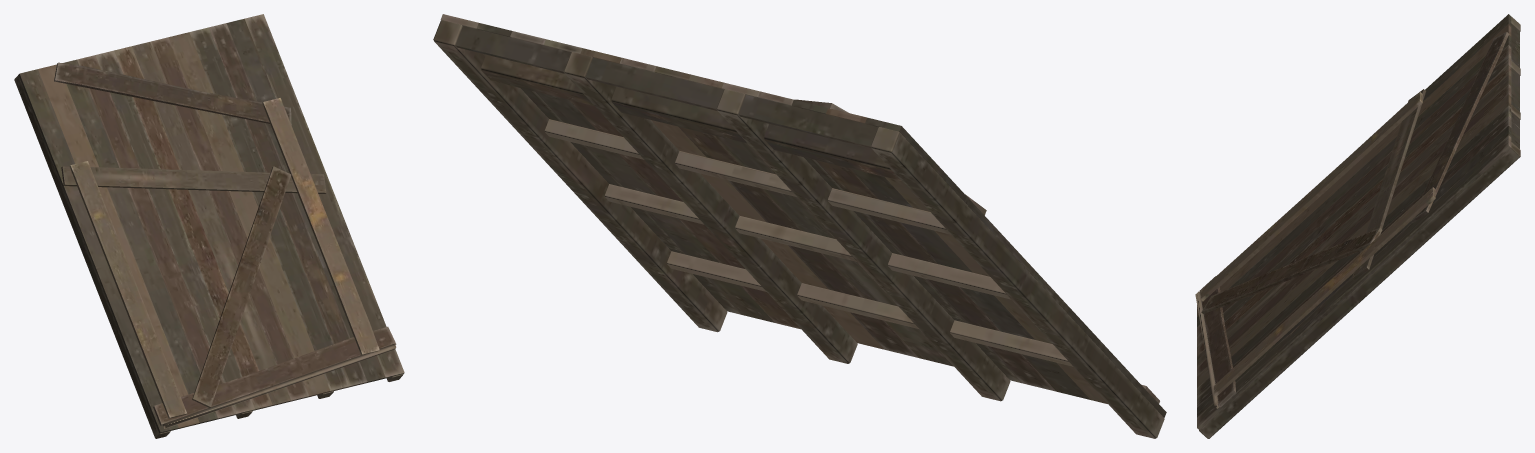
Rendered from roof.frontier.full_b.glb.
3 views of the same model, side by side, from view 1: azimuth 30°, elevation 25°; view 2: azimuth 150°, elevation 25°; view 3: azimuth 270°, elevation 25° (orthographic). The views are drawn at different scales.
Parts seen in each view (by area): view 1: roof_b_LOD0; view 2: roof_b_LOD0; view 3: roof_b_LOD0.
Boxes of the visible parts, x1=… form: roof_b_LOD0: x1=14, y1=14, x2=404, y2=438; roof_b_LOD0: x1=433, y1=14, x2=1166, y2=438; roof_b_LOD0: x1=1195, y1=14, x2=1520, y2=438.
Size of the model in its own units: 3.02 by 3.15 by 3.13.
Materials: 1 (1 with a texture image).
